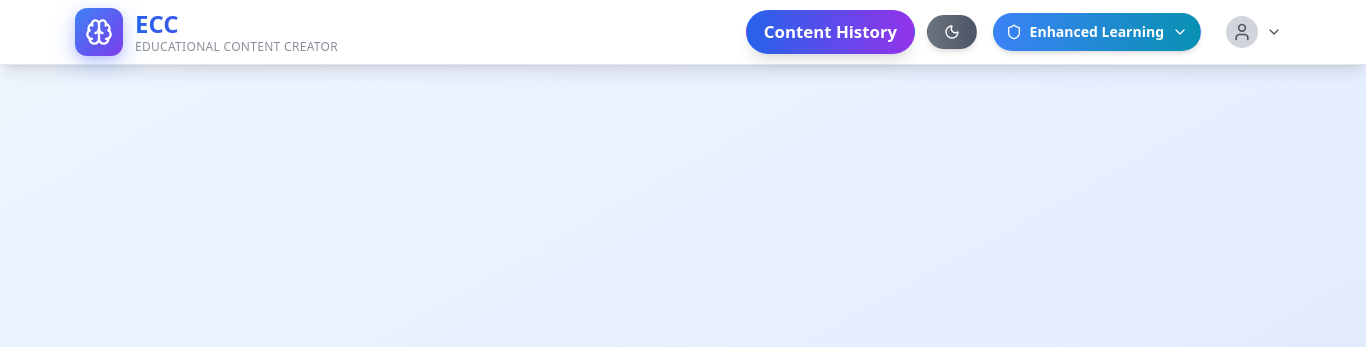
Header Component › handles user without display name
What coordinates should you click on to do the following:
click the button named "user menu"
I would click on:
 (1254, 32)
Its box is [1217,7,1291,57].
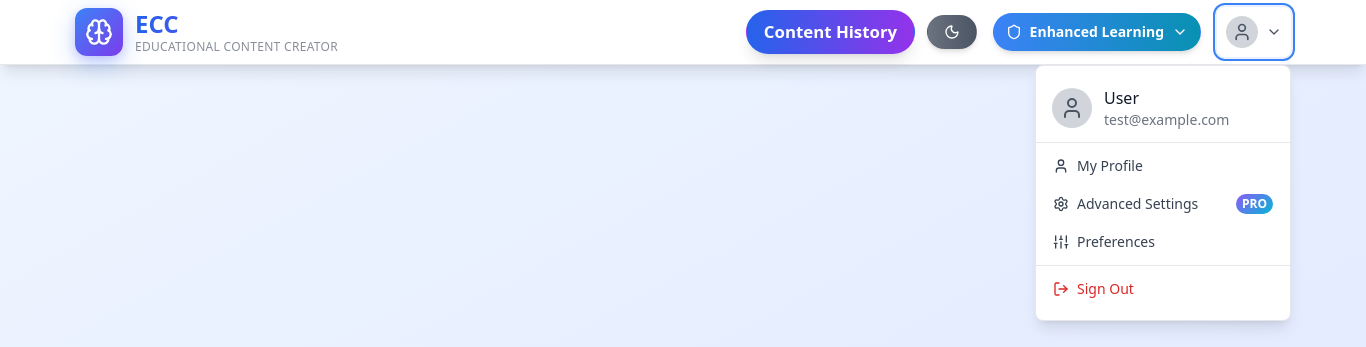
Now the text "User" is shown, box [1104,87,1139,109]
